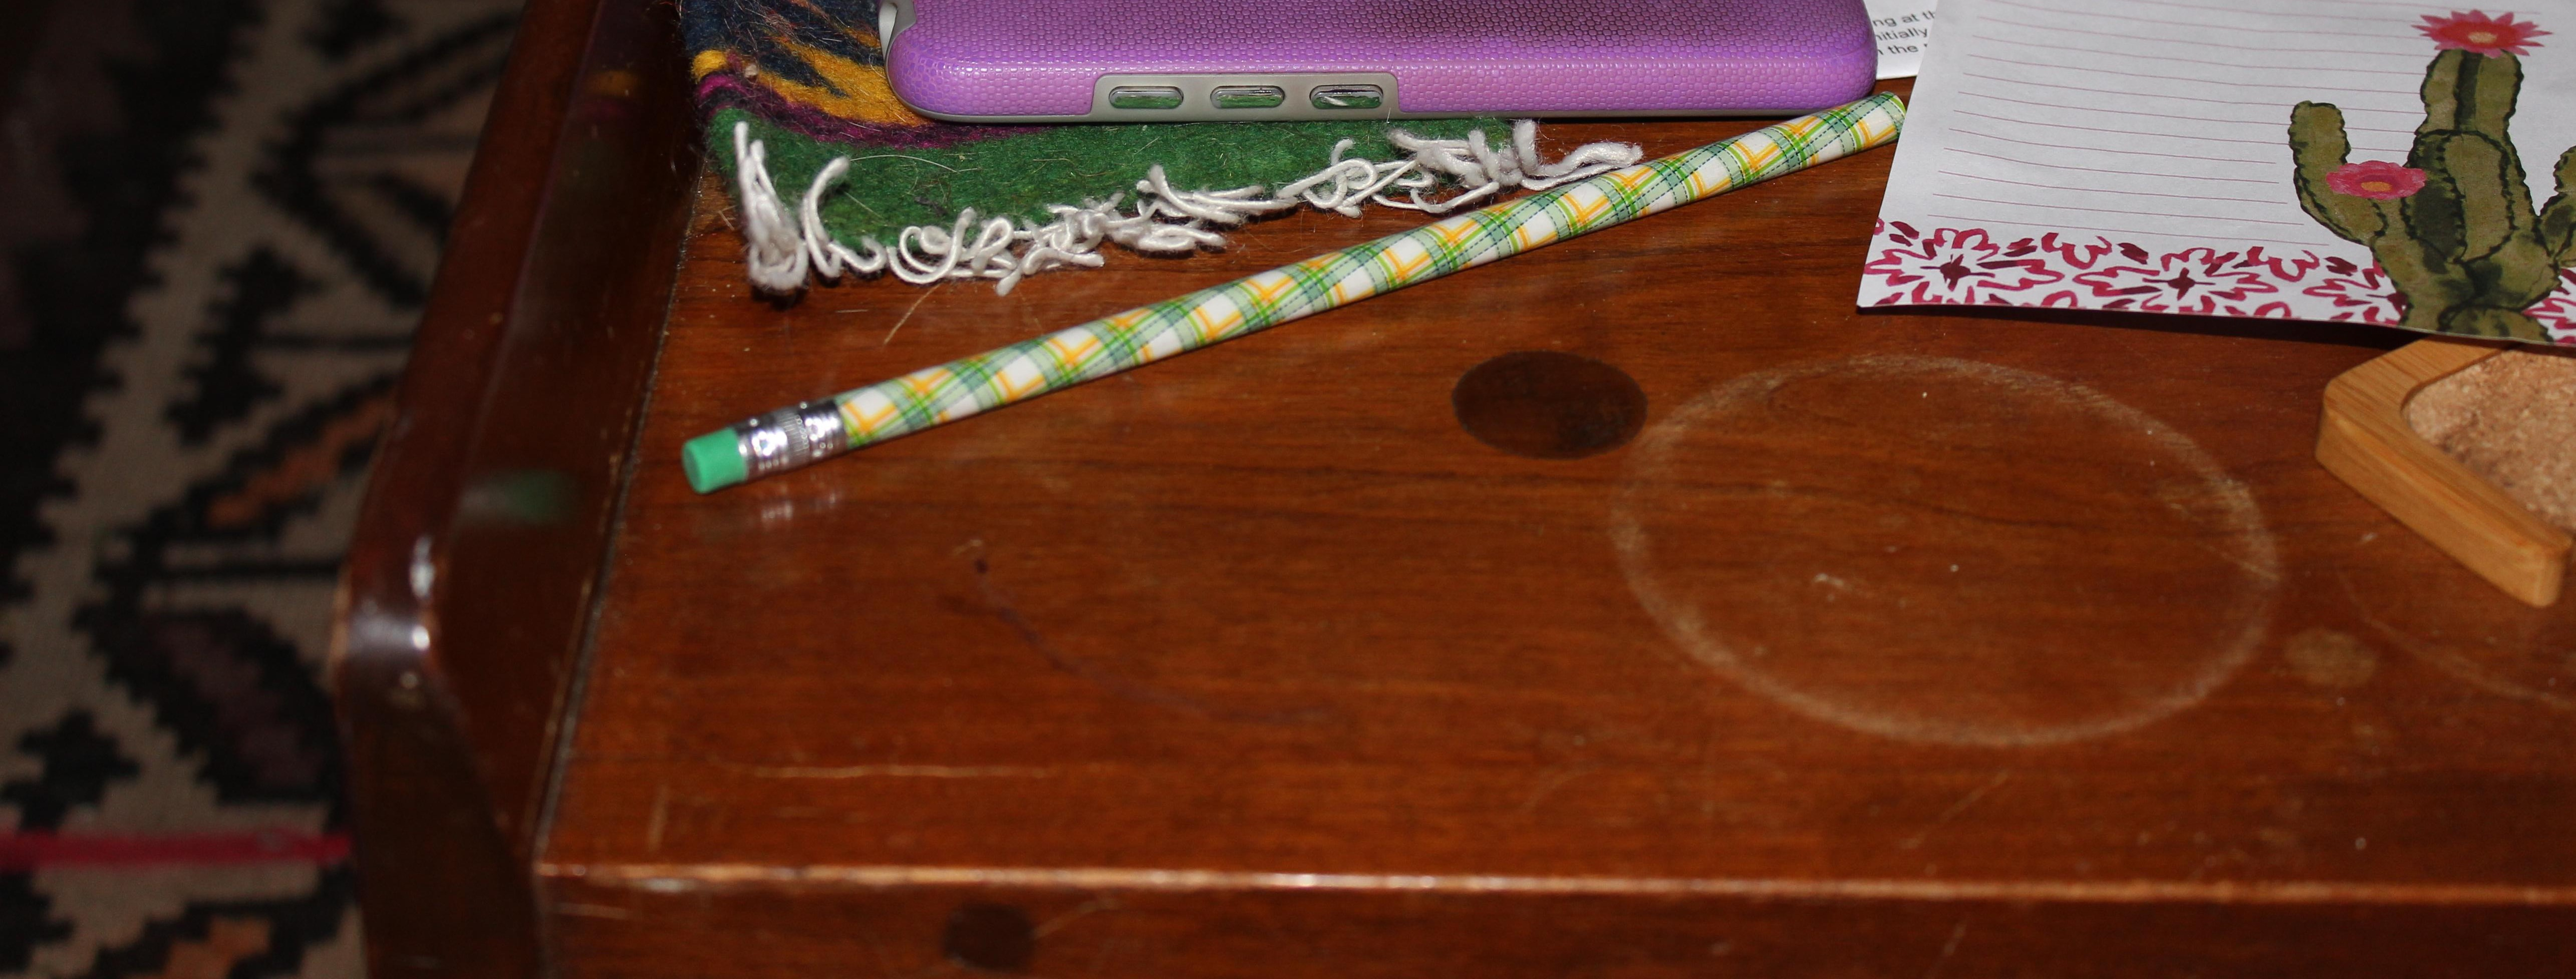plaidPencil: (665, 77, 1934, 512)
